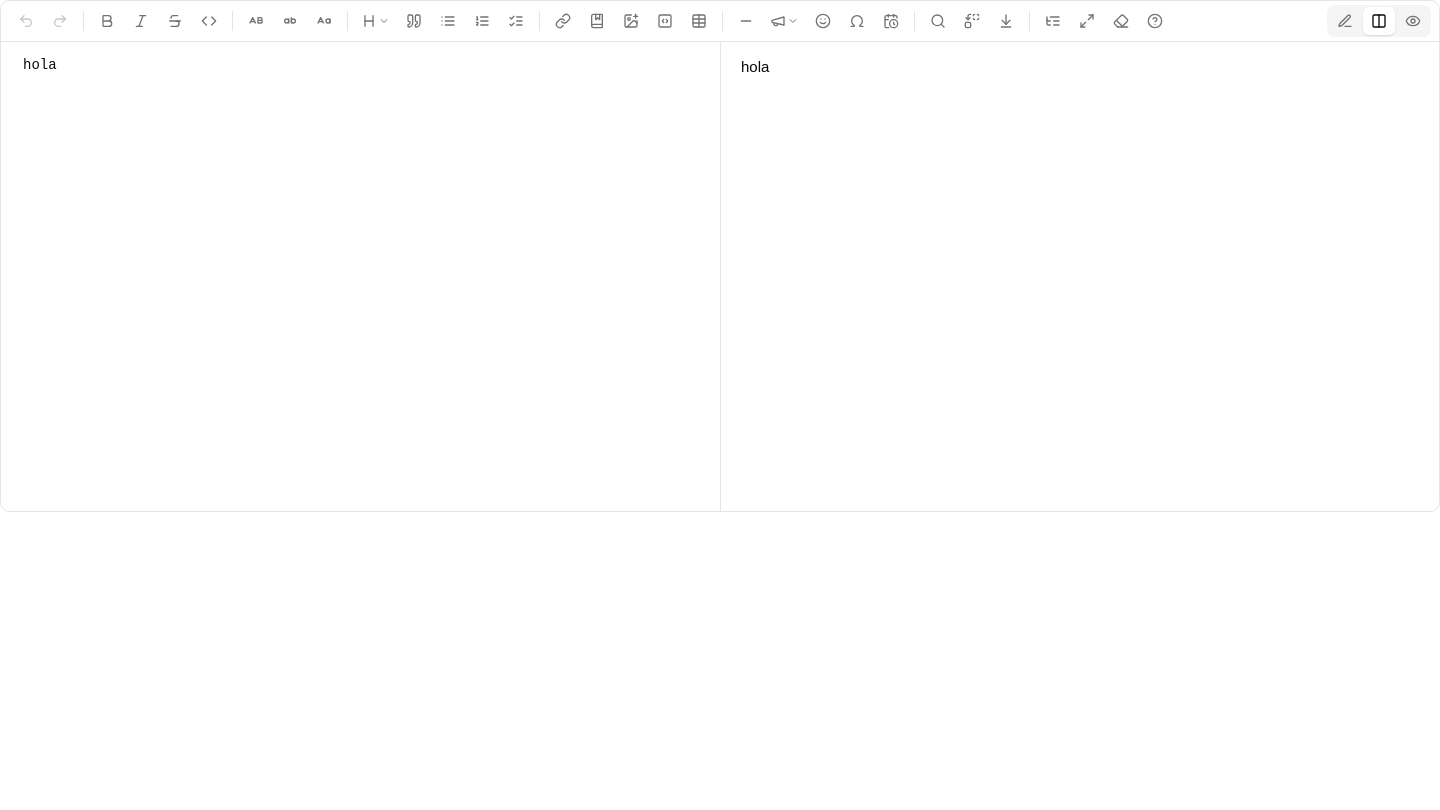
asks before clearing and keeps the text when cancelled
Click the button named "Borrar todo" at (1121, 21), box [1105,5,1137,37]
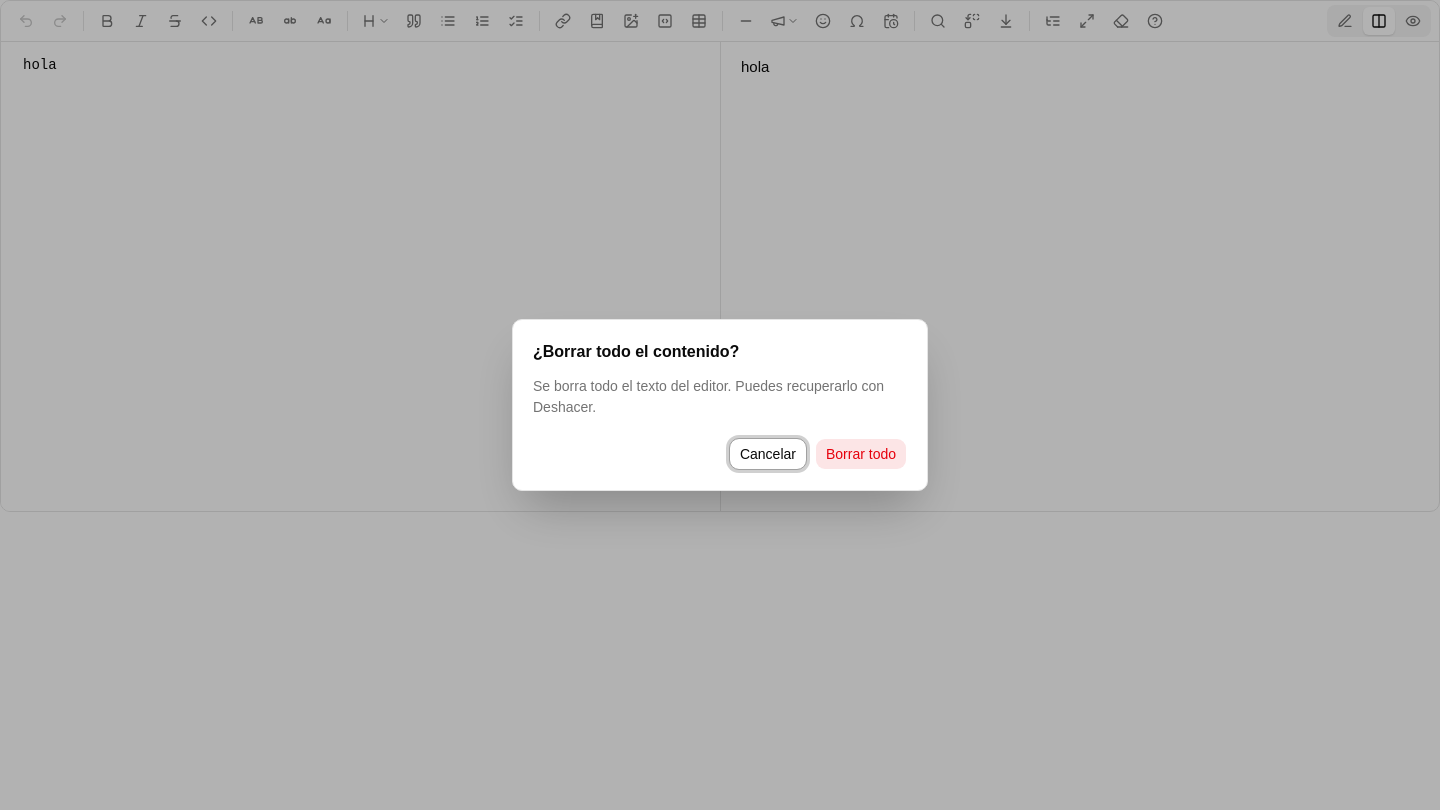
Expected: the dialog "¿Borrar todo el contenido?" shows "Puedes recuperarlo con Deshacer", [533,378,884,415]
Click the button "Cancelar" at (768, 454), box [729,438,807,470]
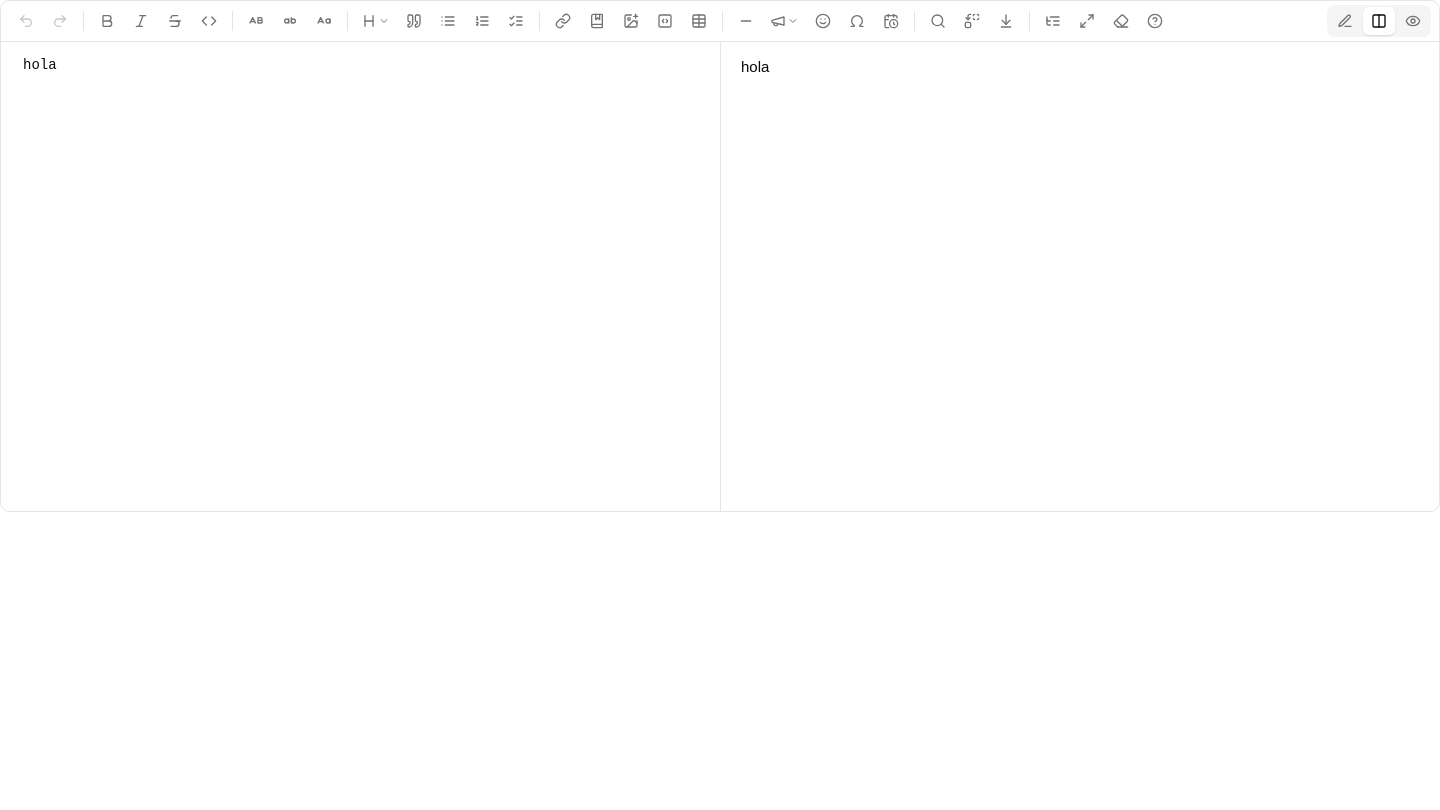
Expected: the element named "Vista previa" reads "hola", [741,58,769,75]
Expected: the dialog is gone
